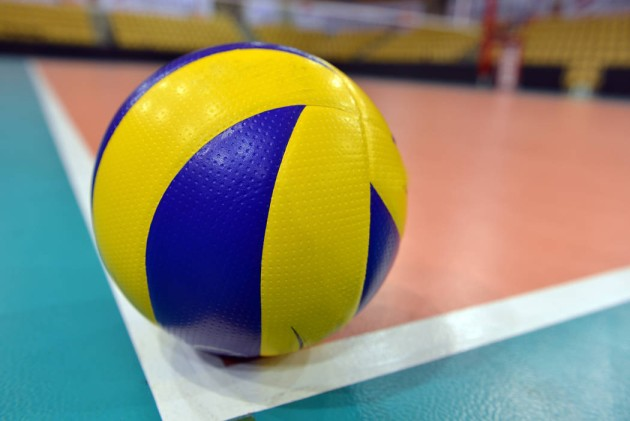volleyball: (87, 42, 410, 361)
